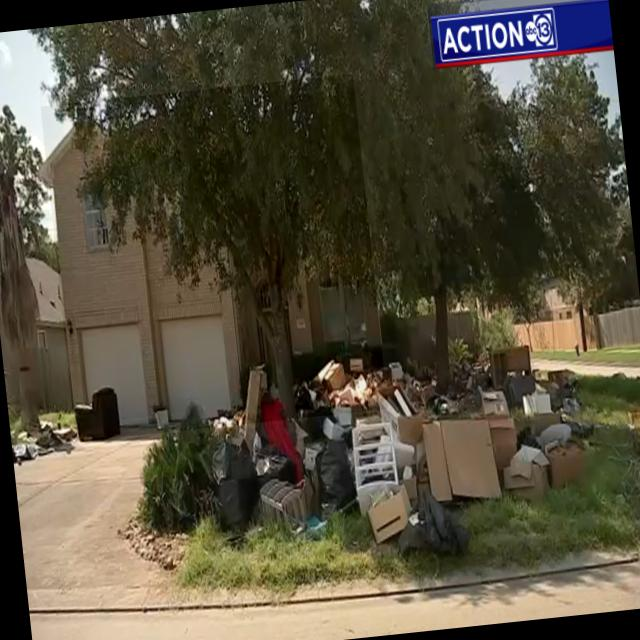House: (40, 74, 388, 442)
